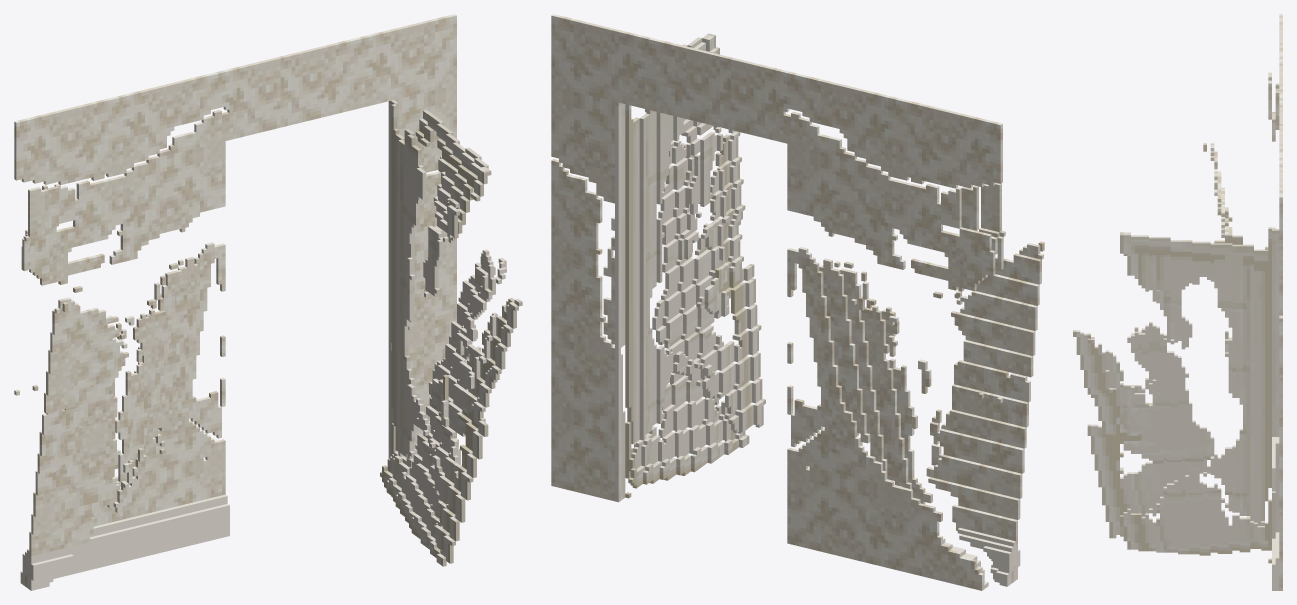
File: door2.vox.obj
The picture shows the model from 3 angles, left to right: view 1: azimuth 30°, elevation 25°; view 2: azimuth 150°, elevation 25°; view 3: azimuth 270°, elevation 25°; orthographic projection. The views are drawn at different scales.
Bounding box in the file's own units: 12 × 12 × 5.8.
1 material, 1 textured.
